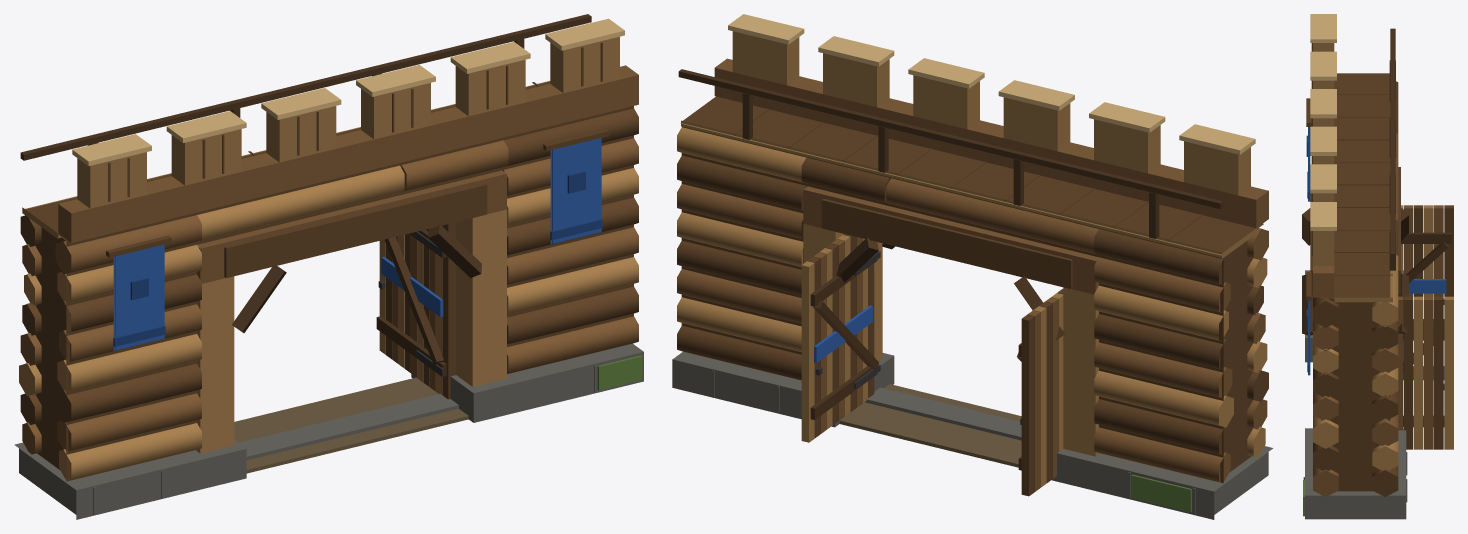
The model's file is timber-gate-open.glb.
3 renders of one model, left to right at view 1: azimuth 30°, elevation 25°; view 2: azimuth 150°, elevation 25°; view 3: azimuth 270°, elevation 25°, orthographic. The views are drawn at different scales.
Visible parts, largest first — view 1: timber-gate-open; view 2: timber-gate-open; view 3: timber-gate-open.
Part boxes in pixels (x1=…): timber-gate-open: x1=14, y1=14, x2=643, y2=519; timber-gate-open: x1=672, y1=14, x2=1273, y2=519; timber-gate-open: x1=1302, y1=14, x2=1453, y2=519.
Bounding box in the file's own units: 10 × 5.93 × 2.85.
1 material, 1 textured.
